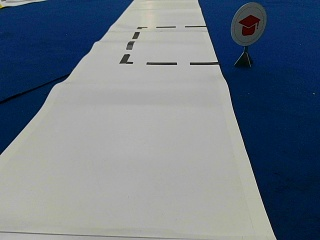school: (230, 2, 266, 44)
